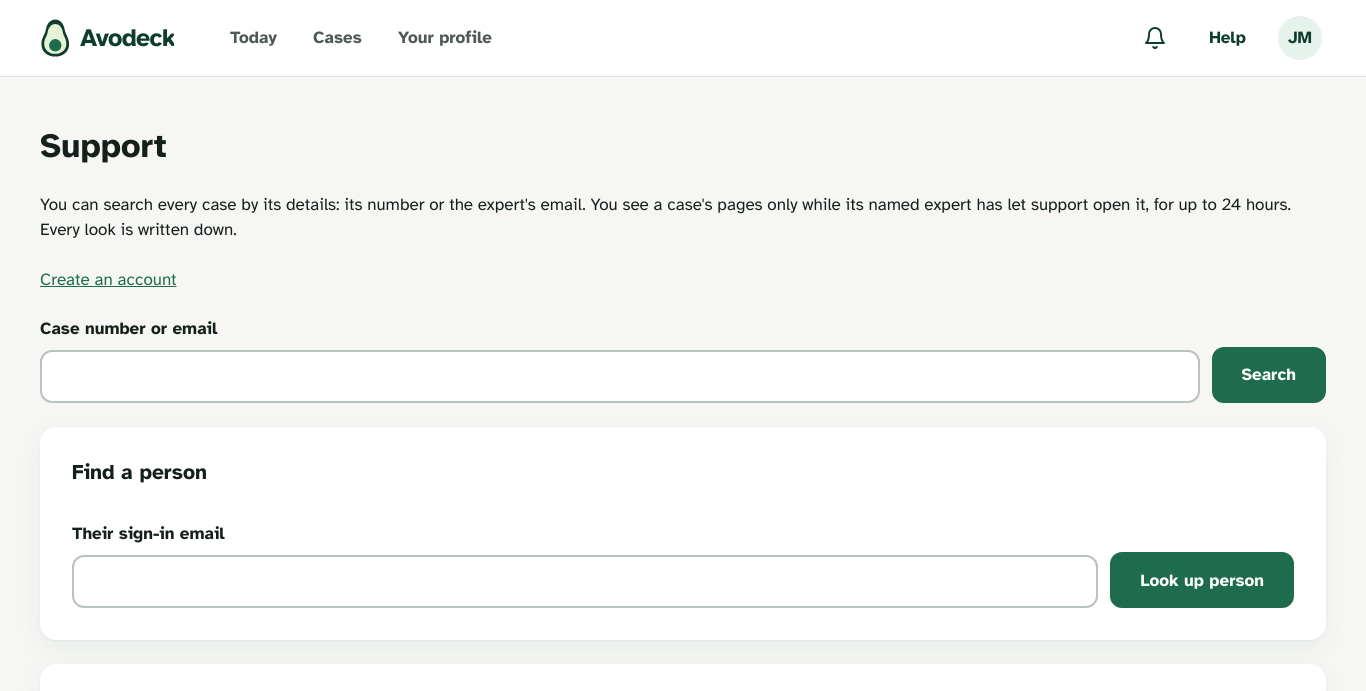
a case with no grant offers no way to open its records
Type "a@example.test" into the field labelled "Case number or email". click: (620, 376)
box: top-left (40, 350), bottom-right (1200, 403)
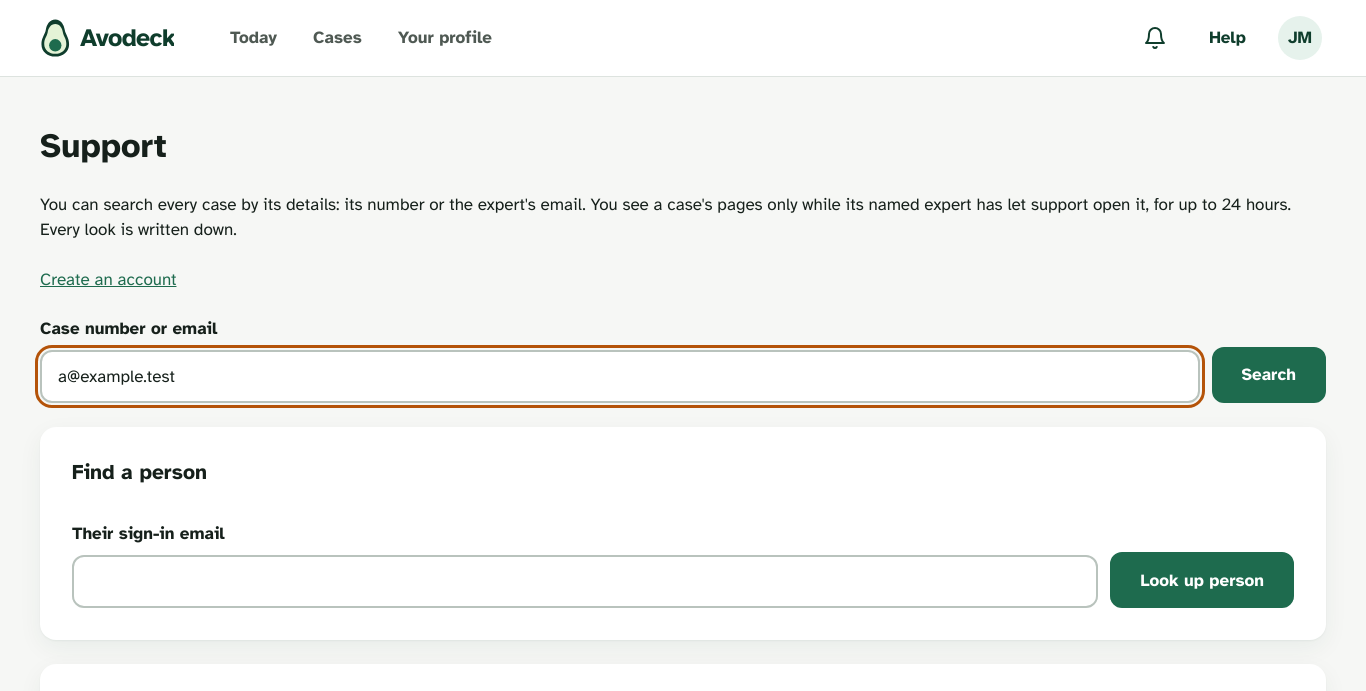
Click the button "Search". click: (1269, 375)
box: top-left (1212, 347), bottom-right (1326, 403)
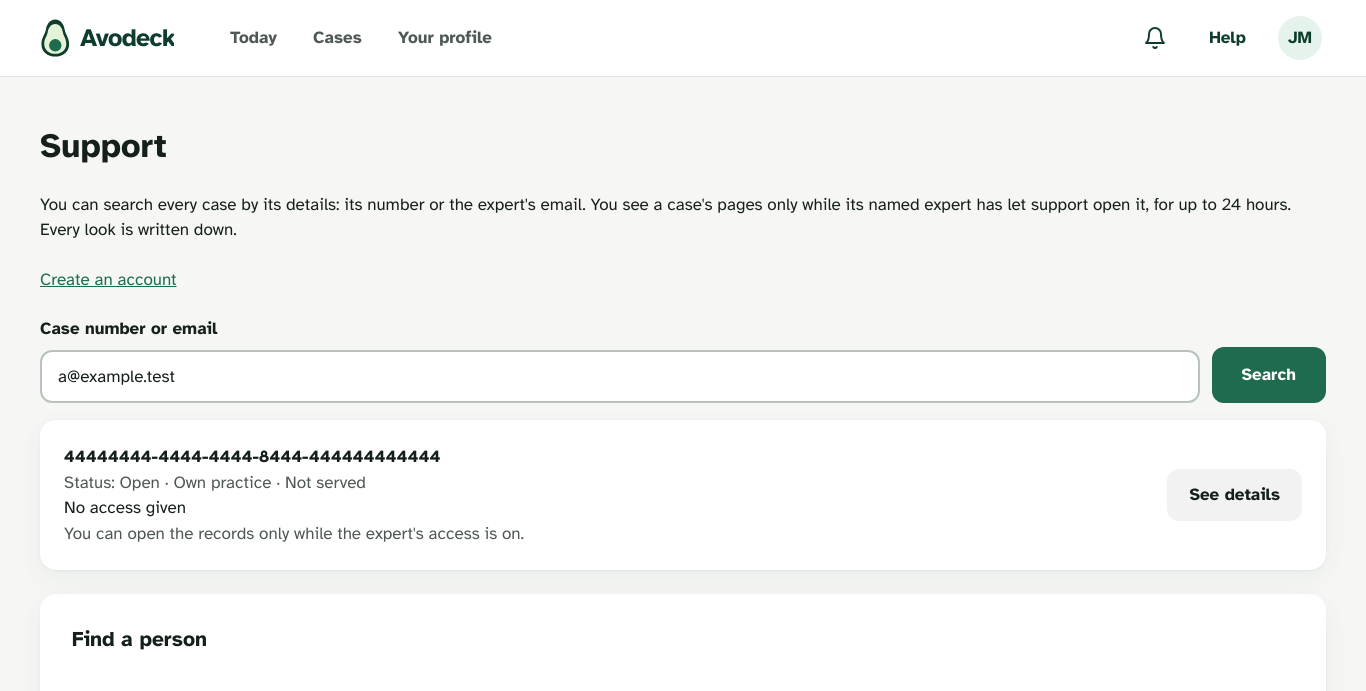
expect the list named "Cases found" is shown: met, box top-left (40, 419), bottom-right (1326, 570)
expect the text "You can open the records only while the expert's access is on." is shown: met, box top-left (64, 522), bottom-right (524, 544)
